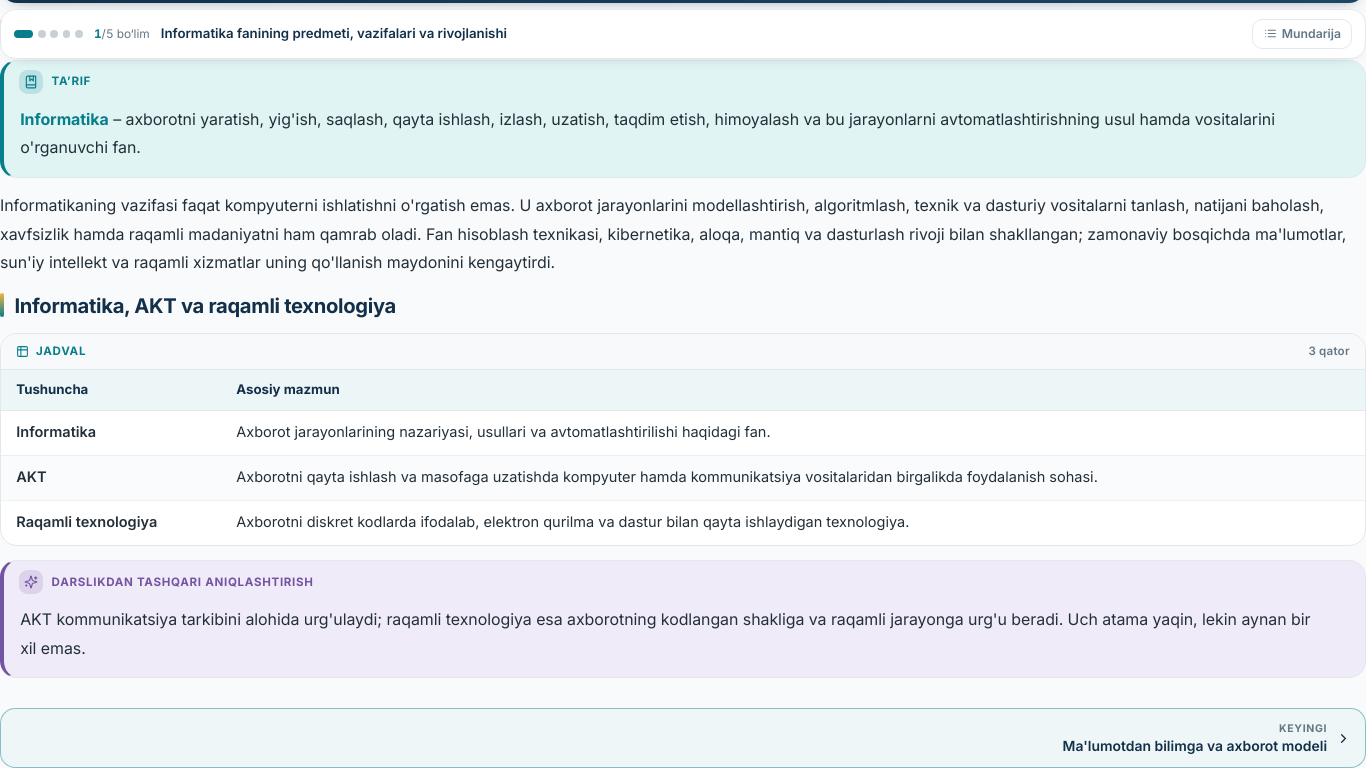
Test: BookReader › “Keyingi” tugmasi keyingi bo‘limga o‘tkazadi
This screenshot has width=1366, height=768.
(page scrolled)
Click the button "Keyingi Ma'lumotdan bilimga va axborot modeli": (1303, 728) [0,708,1365,767]
(page scrolled)
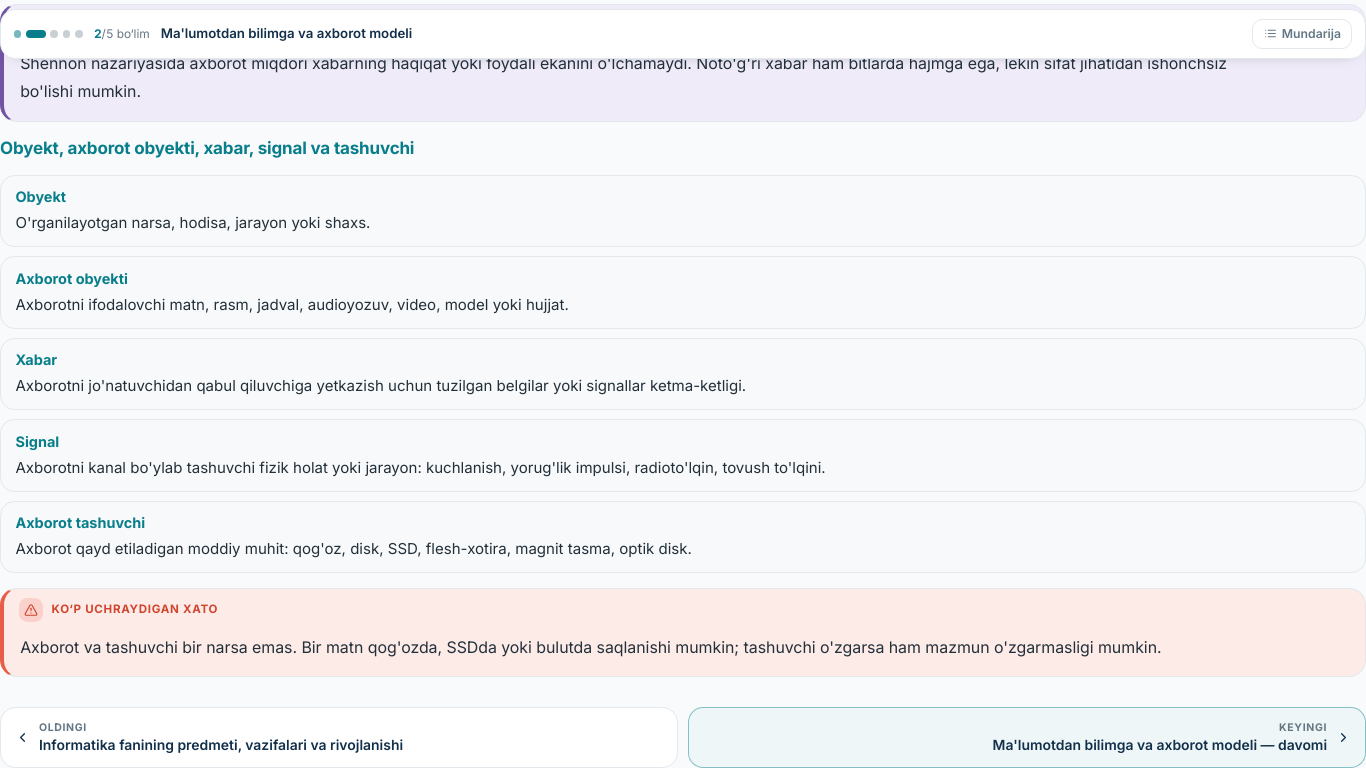
Expected: the button "Oldingi" is enabled, [0,707,678,767]
